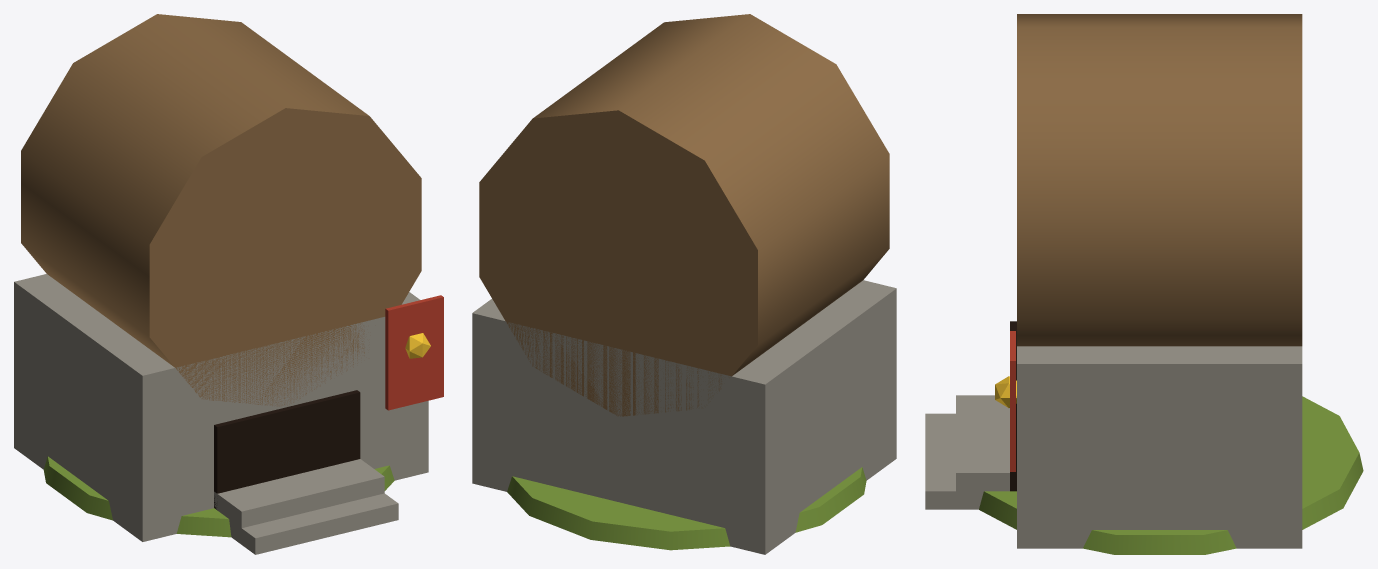
File: level2.glb
3 renders of one model, left to right at view 1: azimuth 30°, elevation 25°; view 2: azimuth 150°, elevation 25°; view 3: azimuth 270°, elevation 25°, orthographic. The views are drawn at different scales.
Size of the model in its own units: 2.07 by 2.54 by 2.28.
